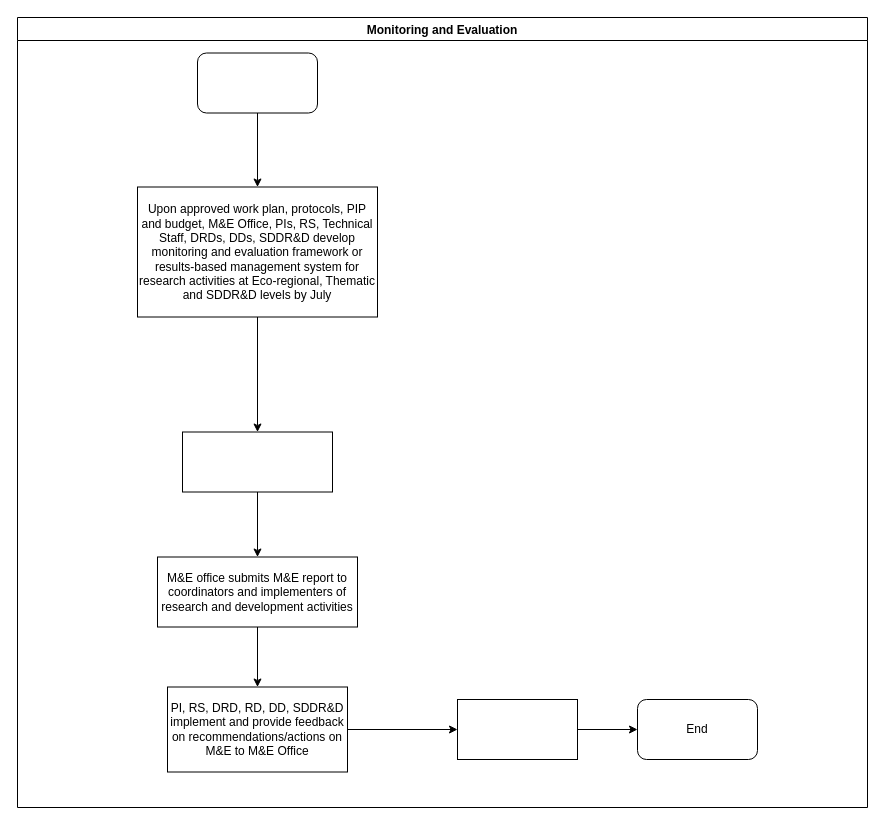
Image size: 885x825. Some labels were removed from this diagram. Here are the shapes that lost their labels. From the top down, the centre of each, then its label:
At pixel 257 82: "Start".
At pixel 257 461: "M&E office initiates and report on M&E project activities".
At pixel 517 729: "M&E office compiles actions taken".
